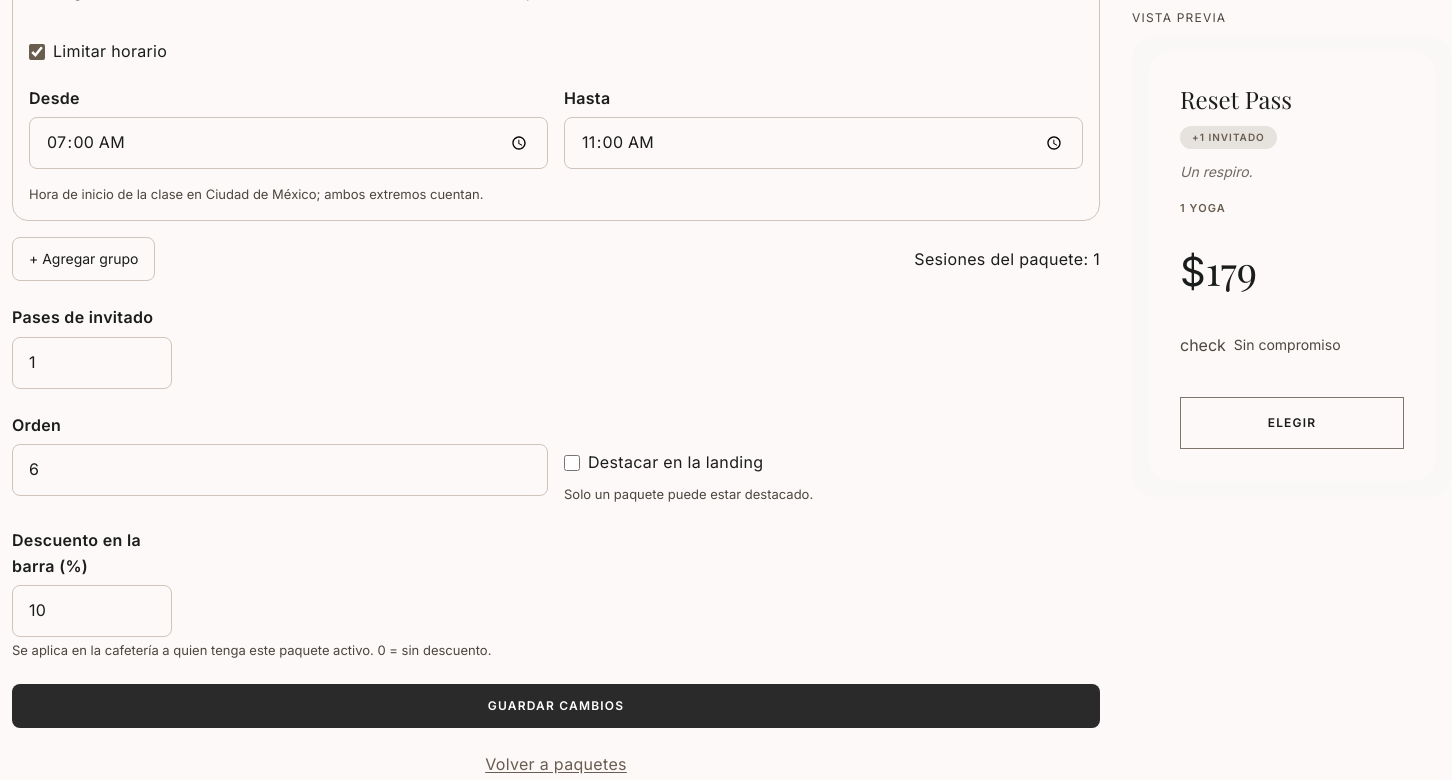
Test: PackageForm — descuento en la barra (SPEC-CAFETERIA D13) › fuera de 0–100 muestra el error del esquema y no guarda
(page scrolled)
Replace the text in the number field labelled "Descuento en la barra (%)" with "120" at (92, 611), box [12,585,172,637]
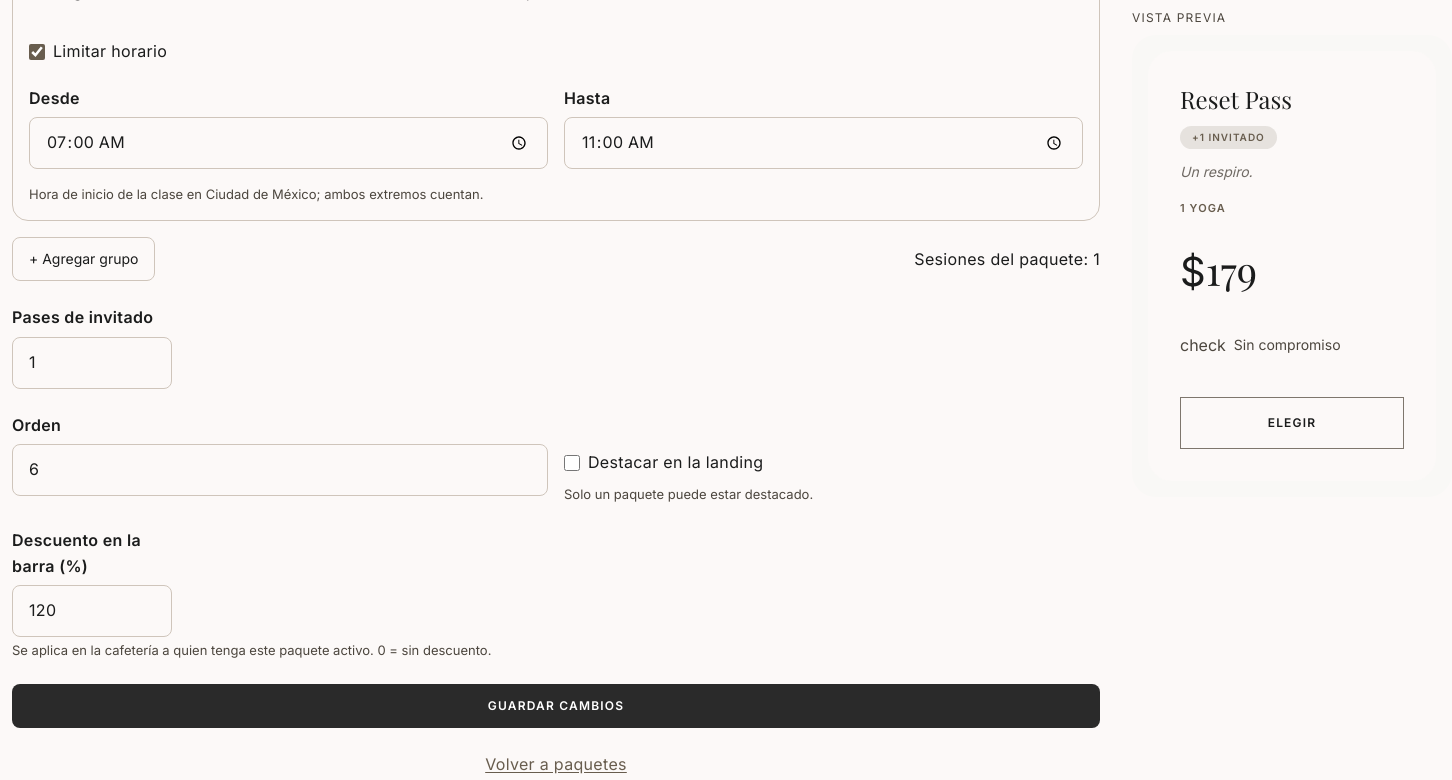
Click the button "Guardar cambios" at (556, 706), box [12,684,1100,728]
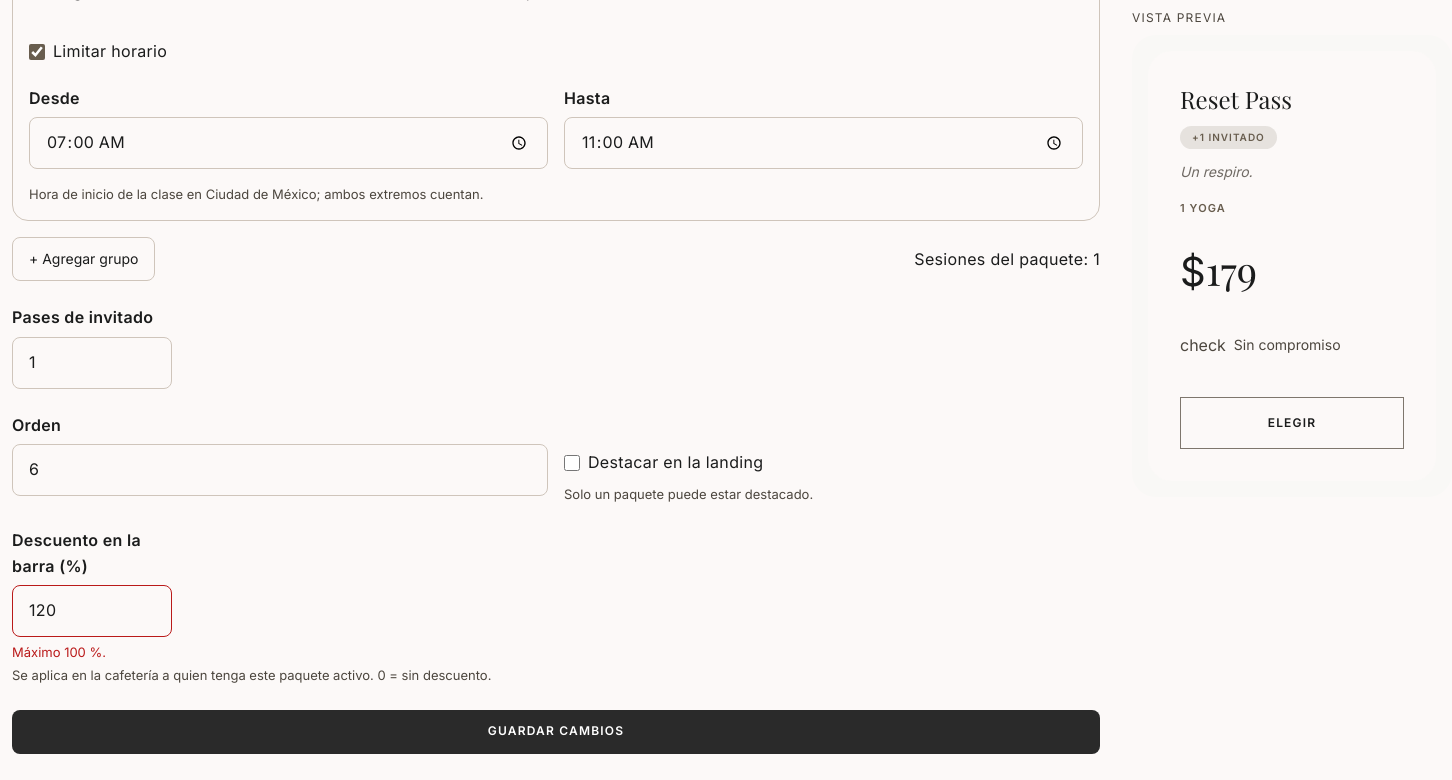
Expected: the text "Máximo 100 %." is shown, [12,644,106,660]
